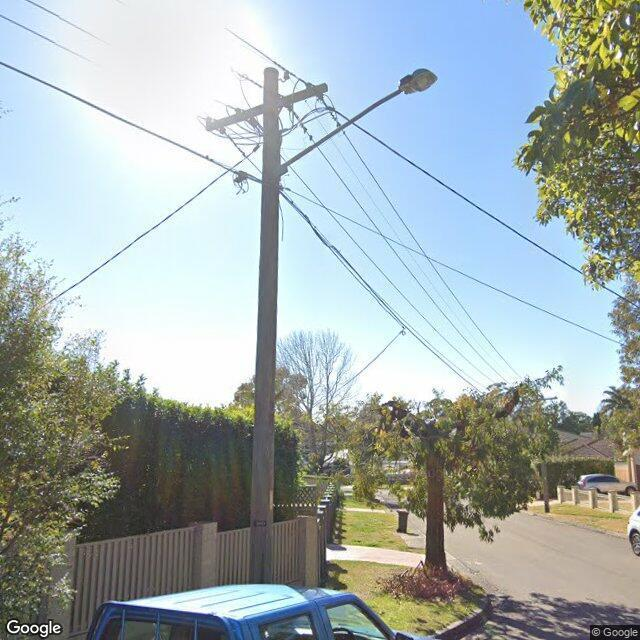crossarm: (205, 82, 328, 134)
streetlight: (270, 66, 438, 182)
timber-pole: (247, 67, 280, 584)
